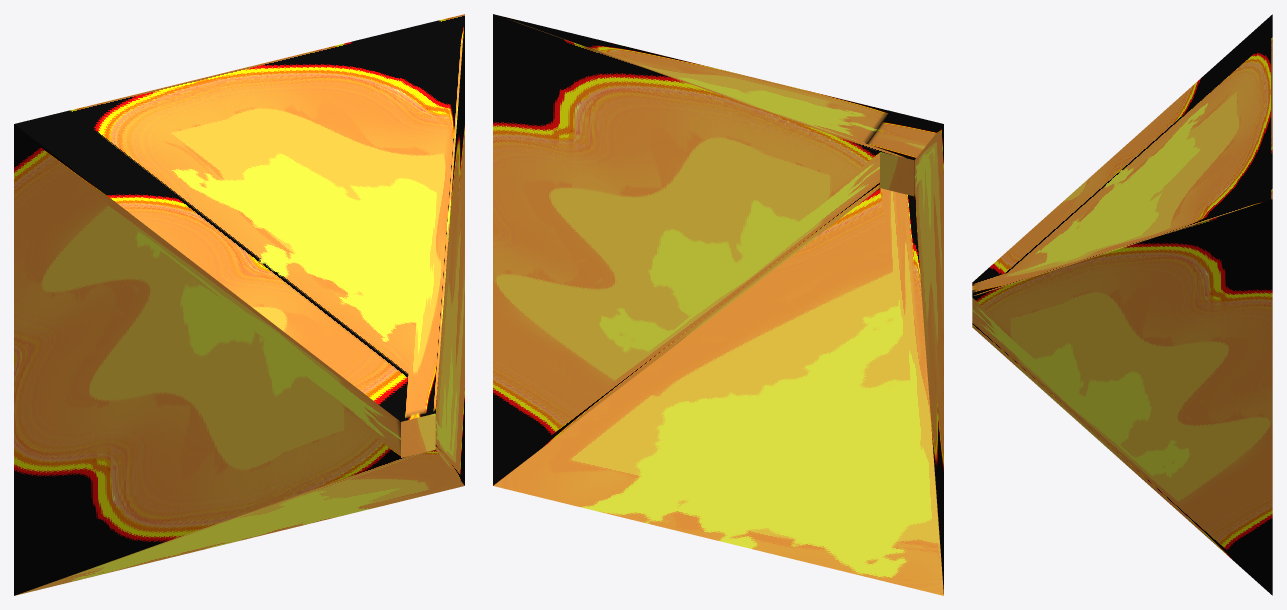
Rendered from hitEffect.glb.
3 views of the same model, side by side, from view 1: azimuth 30°, elevation 25°; view 2: azimuth 150°, elevation 25°; view 3: azimuth 270°, elevation 25° (orthographic). The views are drawn at different scales.
Visible parts, largest first — view 1: Cube; view 2: Cube; view 3: Cube.
Part boxes in pixels (x1=…): Cube: x1=14, y1=14, x2=464, y2=595; Cube: x1=493, y1=14, x2=943, y2=595; Cube: x1=972, y1=14, x2=1272, y2=595.
Bounding box in the file's own units: 4.48 × 4.48 × 3.08.
Materials: 1 (1 with a texture image).
